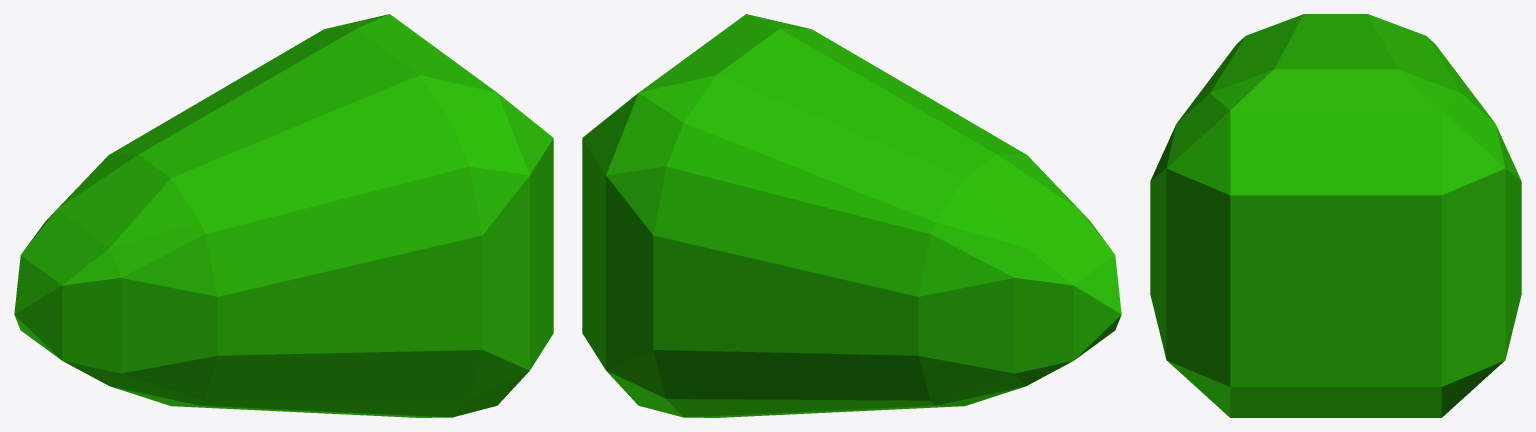
File: SnakeTail.fbx
3 renders of one model, left to right at view 1: azimuth 30°, elevation 25°; view 2: azimuth 150°, elevation 25°; view 3: azimuth 270°, elevation 25°, orthographic.
Parts seen in each view (by area): view 1: Tail; view 2: Tail; view 3: Tail.
Boxes of the visible parts, <box> form: Tail: <box>14,14,553,417</box>; Tail: <box>582,14,1121,417</box>; Tail: <box>1150,14,1521,417</box>.
Size of the model in its own units: 220 by 149 by 149.
